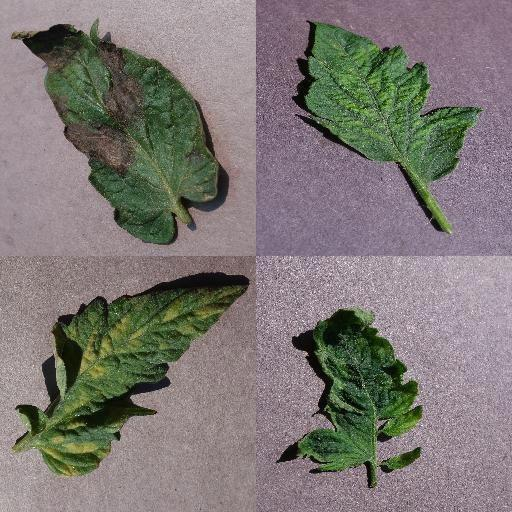Late Blight: (11, 20, 221, 246)
Leaf Mold: (15, 282, 247, 480)
Mosaic Virus: (301, 18, 483, 184), (296, 304, 423, 474)
